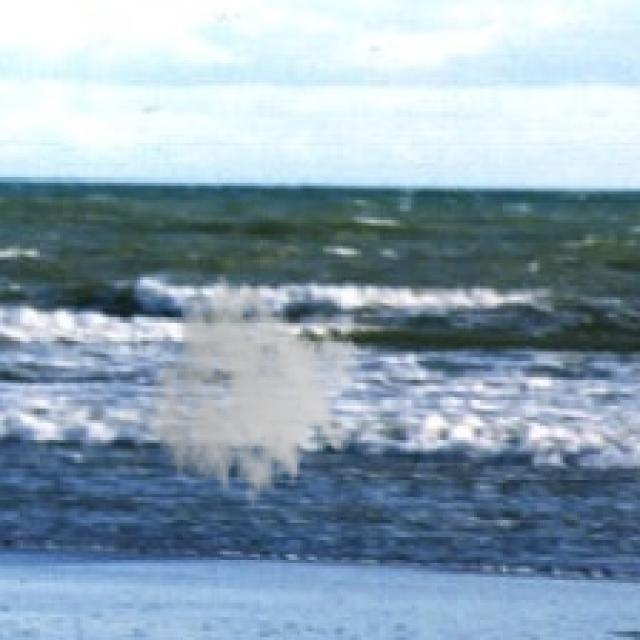smoke: (148, 271, 363, 523)
